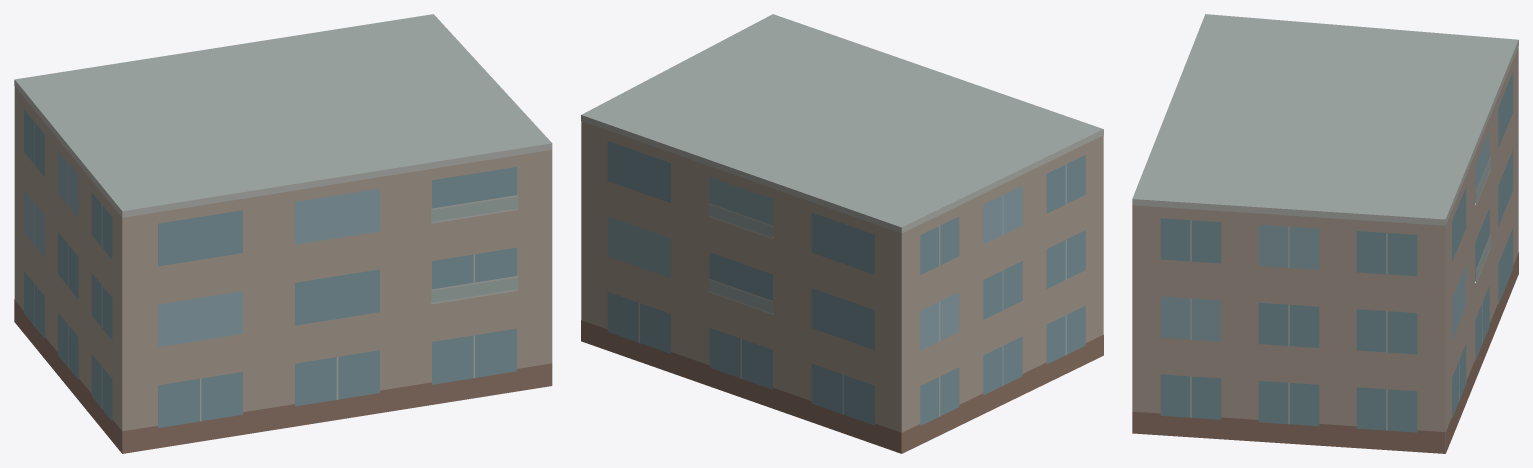
Rendered from survey-upis-32779505.glb.
3 renders of one model, left to right at view 1: azimuth 30°, elevation 25°; view 2: azimuth 150°, elevation 25°; view 3: azimuth 270°, elevation 25°, orthographic. The views are drawn at different scales.
Visible parts, largest first — view 1: survey-upis-32779505.tmp; view 2: survey-upis-32779505.tmp; view 3: survey-upis-32779505.tmp.
Part boxes in pixels (<box>): survey-upis-32779505.tmp: <box>14,14,552,453</box>; survey-upis-32779505.tmp: <box>581,14,1103,453</box>; survey-upis-32779505.tmp: <box>1132,14,1518,453</box>.
Bounding box in the file's own units: 17.21 × 9.15 × 13.68.
